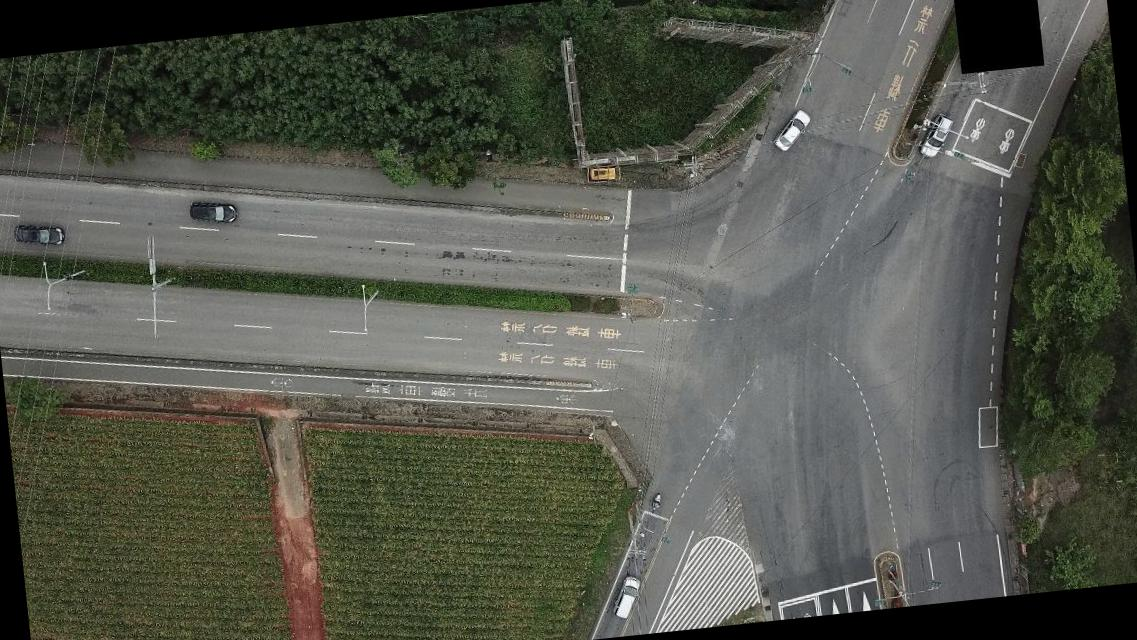vehicle: (918, 112, 957, 158), (772, 108, 812, 152), (609, 573, 643, 619), (188, 198, 238, 228), (12, 222, 65, 250), (587, 160, 625, 184)
